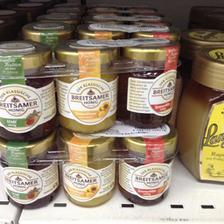Honig: (178, 44, 223, 180), (0, 36, 58, 140), (57, 38, 116, 132), (118, 44, 178, 128), (118, 130, 178, 206), (57, 134, 116, 206), (0, 139, 60, 207)
